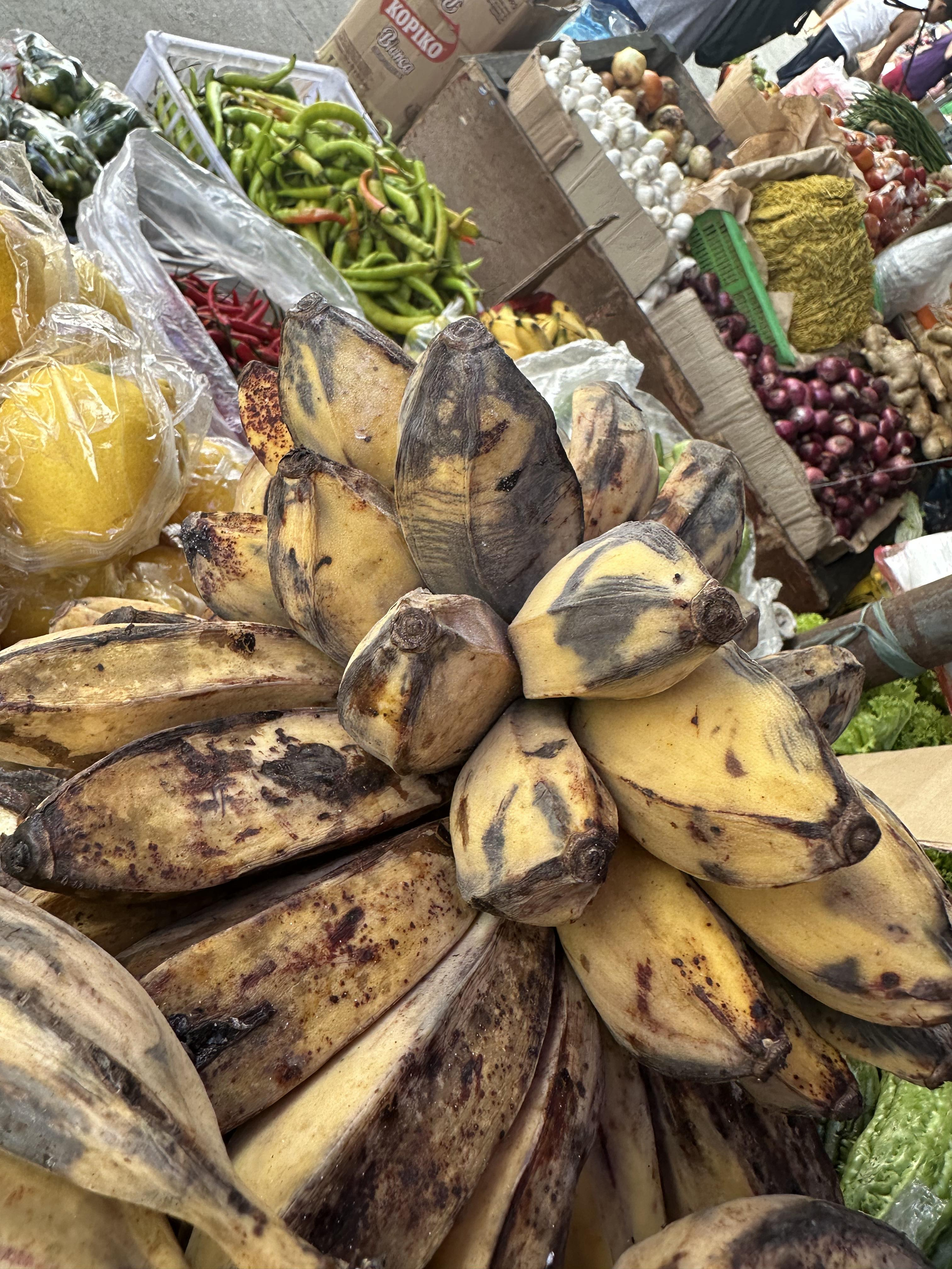ripe: (184, 294, 952, 1122), (0, 620, 850, 1269)
